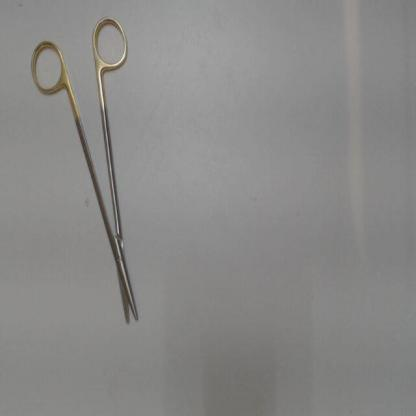7 Metzenbaum Scissors: (26, 12, 144, 329)
